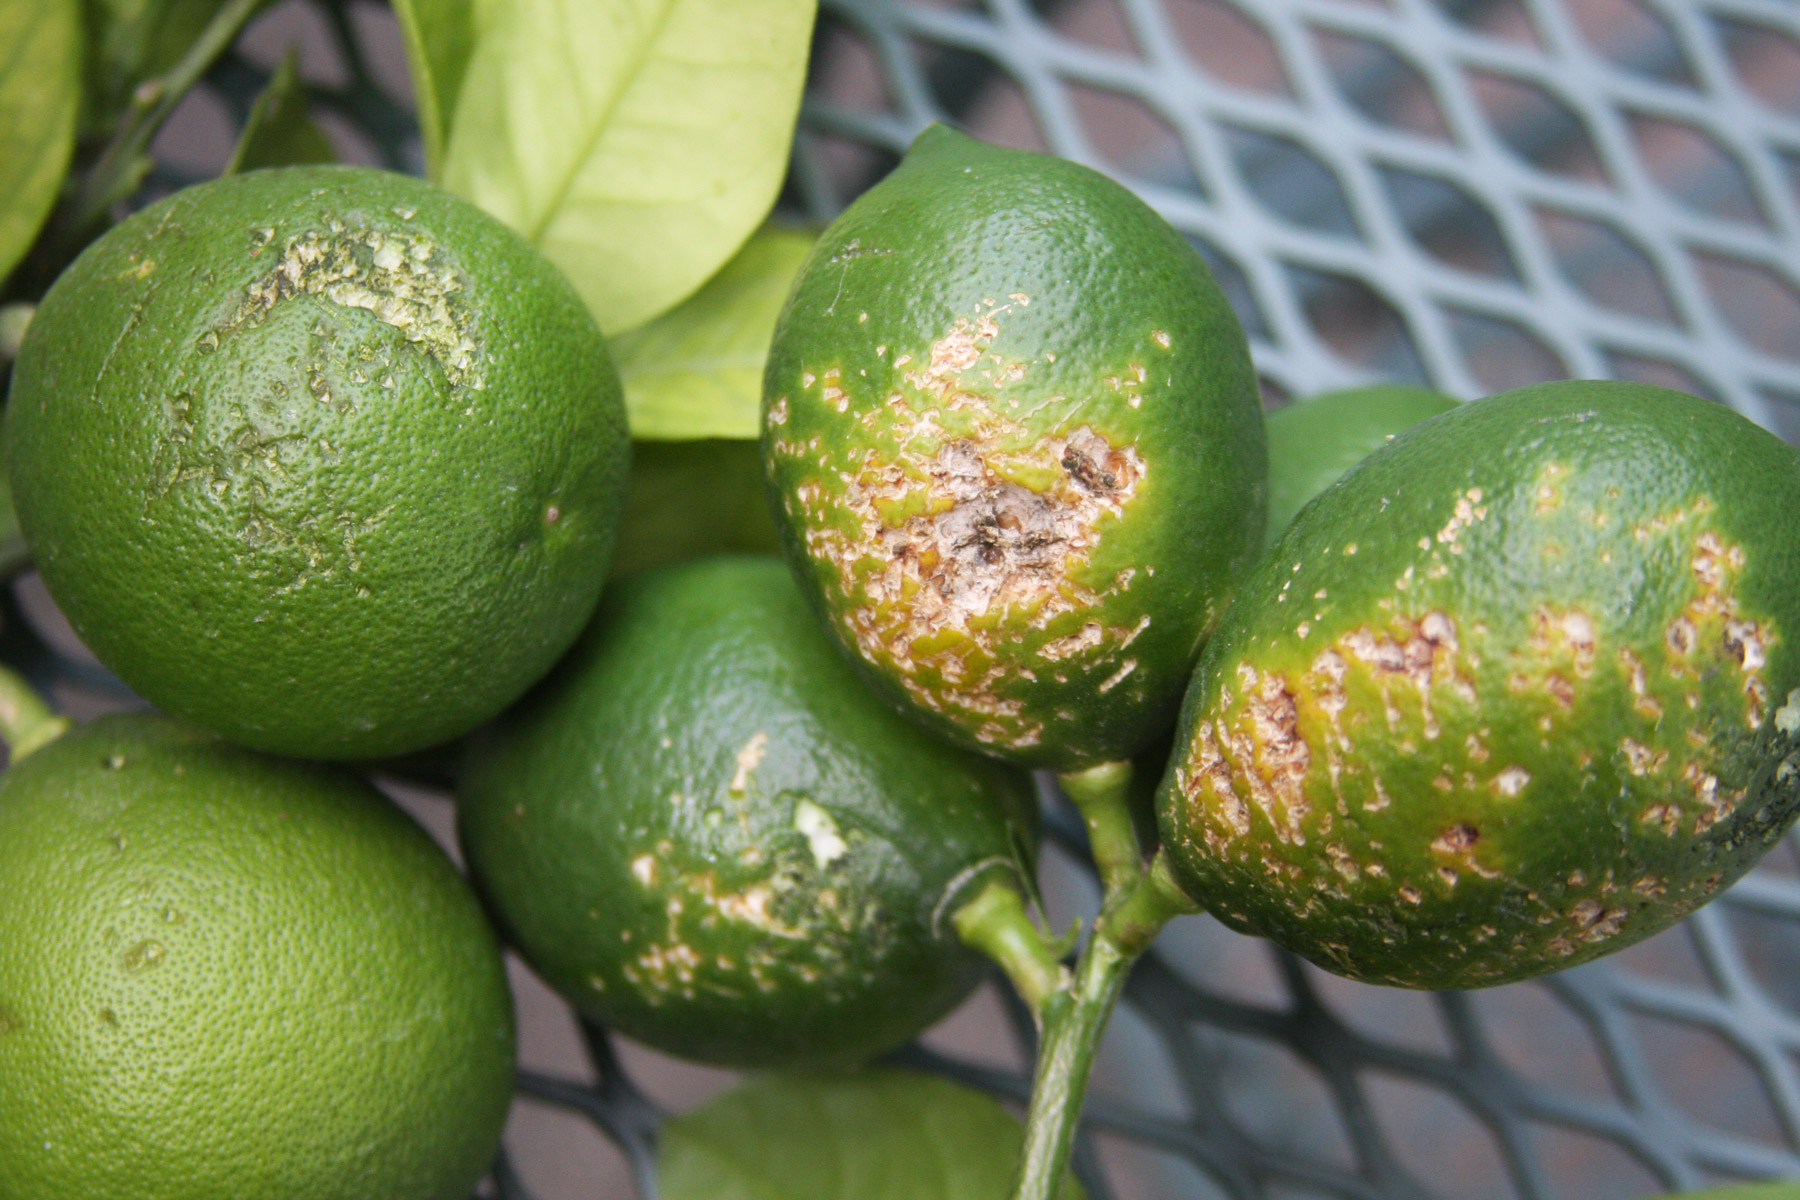damaged_lime: (1199, 384, 1799, 990), (27, 162, 635, 751), (763, 145, 1221, 777), (512, 568, 983, 1038)
